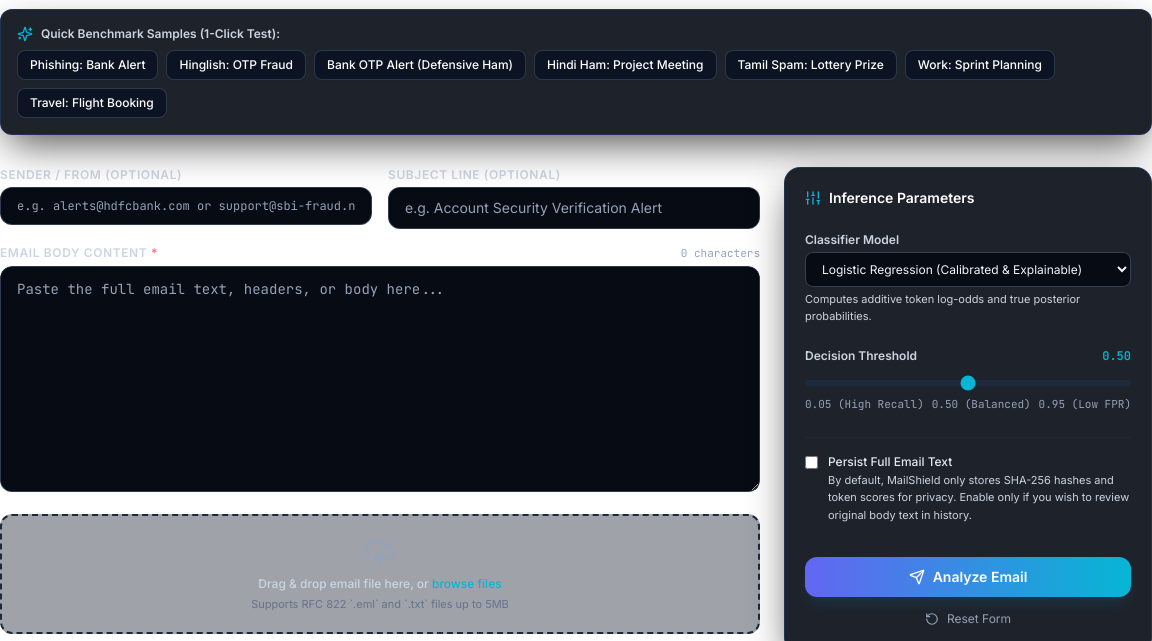
Test: AnalyzerView Component › opens feedback modal and submits user feedback
Type "Test email content for feedback" into the text box with placeholder "Paste the full email text, headers, or body here..." at (380, 378), box x1=0 y1=266 x2=760 y2=492
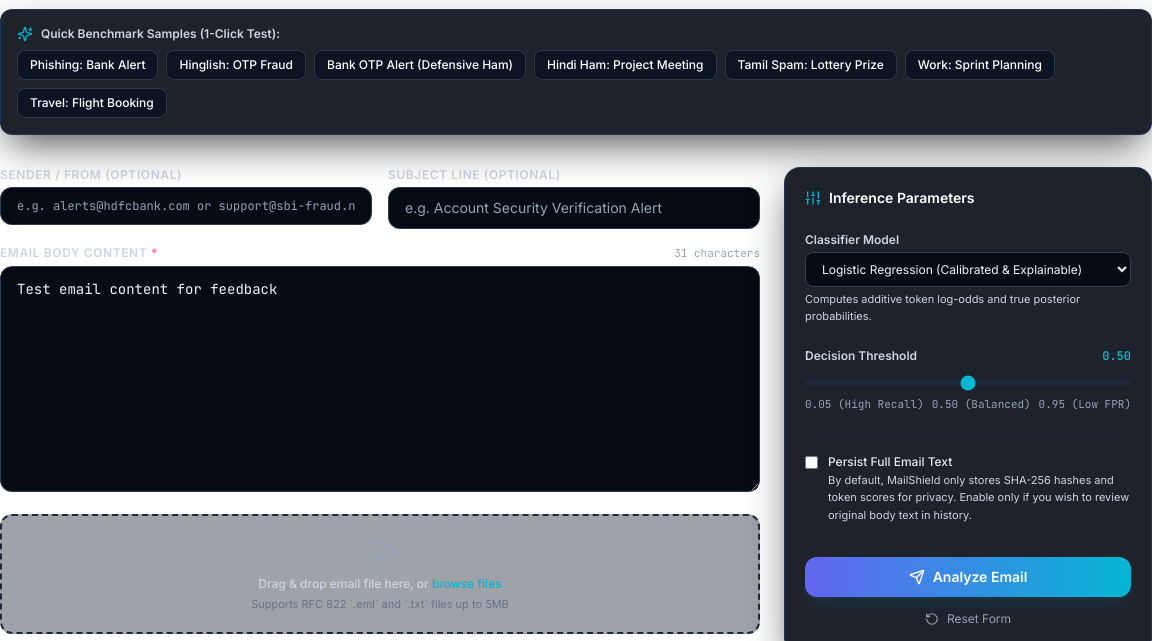
Click the button "Analyze Email" at (968, 577), box x1=805 y1=557 x2=1131 y2=597
(page scrolled)
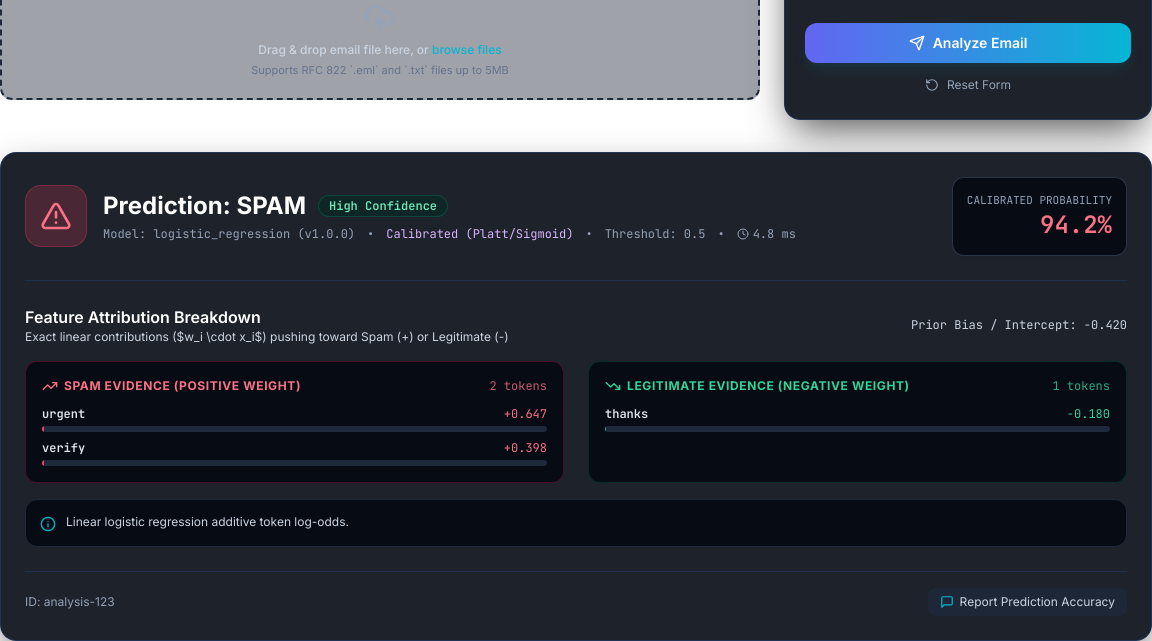
Expected: the text "Report Prediction Accuracy" is shown, x1=960 y1=594 x2=1115 y2=610
Click the button "Report Prediction Accuracy" at (1027, 602), box x1=928 y1=588 x2=1127 y2=616
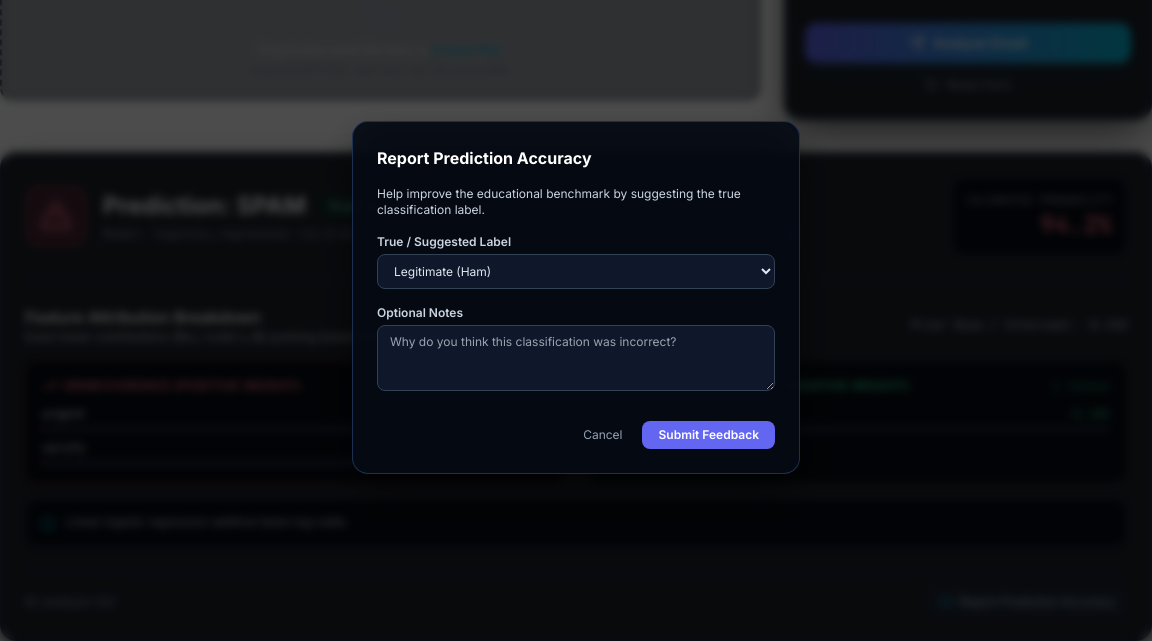
Expected: the text "Help improve the educational benchmark by suggesting the true classification label." is shown, x1=377 y1=186 x2=741 y2=216
Type "This was an internal security test" into the text box with placeholder "Why do you think this classification was incorrect?" at (576, 358), box x1=377 y1=324 x2=775 y2=390
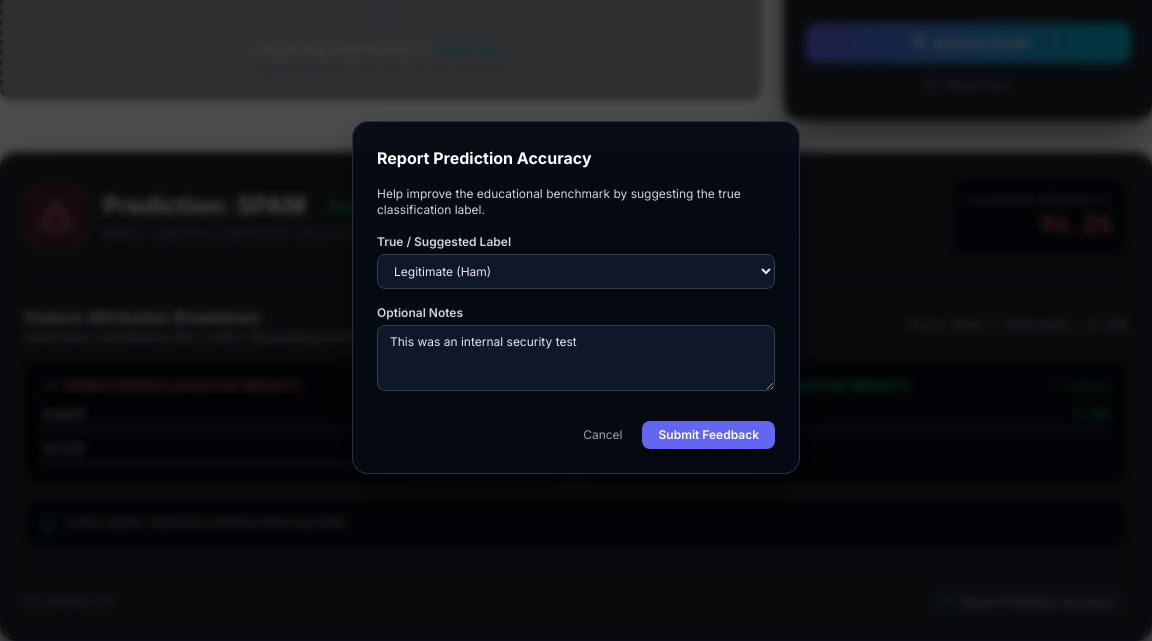
Click the button "Submit Feedback" at (709, 434), box x1=642 y1=420 x2=775 y2=448
(page scrolled)
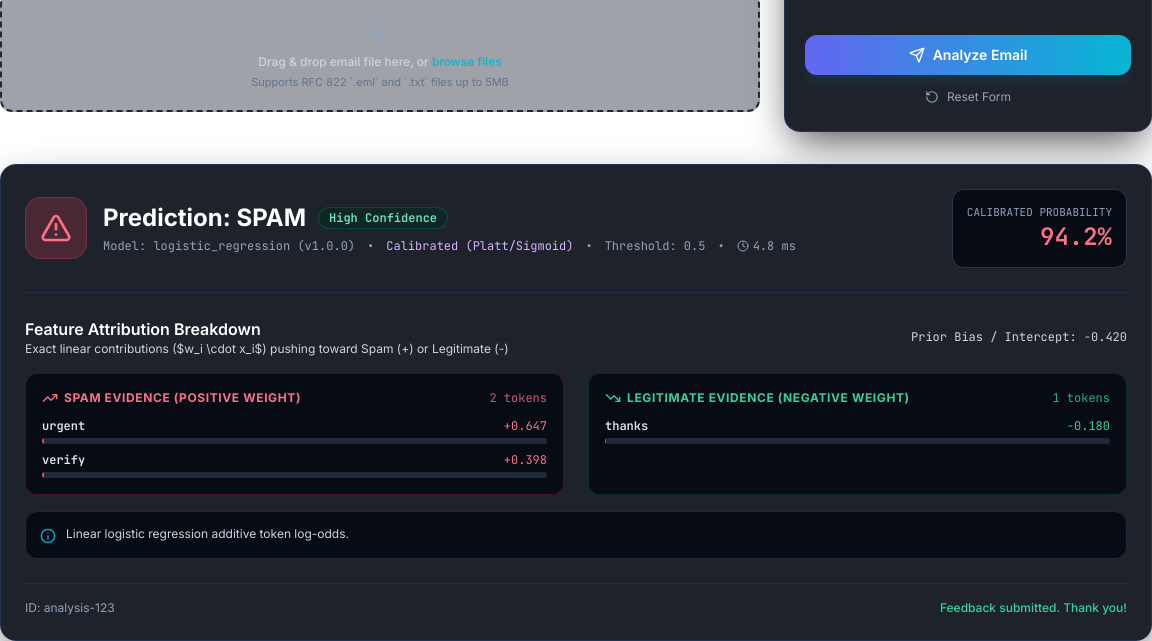
Expected: the text "Feedback submitted. Thank you!" is shown, x1=940 y1=600 x2=1127 y2=616
